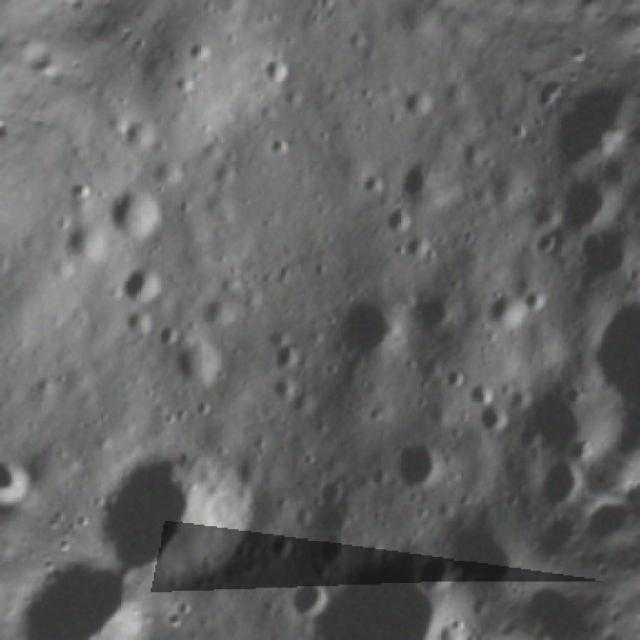crater: (70, 416, 278, 624), (267, 514, 485, 640), (421, 499, 536, 616), (563, 273, 640, 421), (317, 280, 418, 382), (529, 101, 623, 190), (376, 418, 462, 508), (560, 212, 640, 302), (92, 173, 177, 256), (543, 164, 626, 248), (159, 325, 239, 404), (520, 446, 597, 522), (401, 275, 476, 351), (403, 540, 471, 608), (387, 151, 456, 218), (274, 566, 340, 632), (114, 256, 178, 319), (298, 524, 360, 585), (389, 224, 445, 282), (474, 288, 532, 344), (258, 365, 313, 420), (392, 80, 442, 132), (303, 468, 354, 518), (468, 396, 518, 446), (250, 46, 299, 96), (265, 330, 313, 378), (0, 444, 40, 496), (257, 530, 301, 576), (376, 199, 421, 243), (146, 315, 188, 360), (425, 611, 477, 640), (514, 283, 552, 320)
